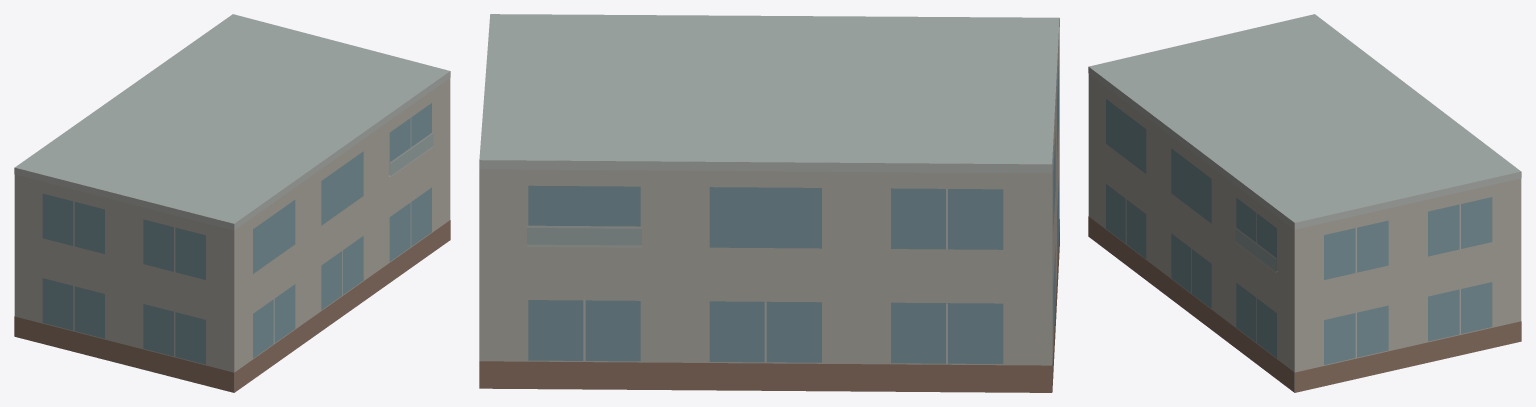
File: survey-upis-32604153.glb
3 views of the same model, side by side, from view 1: azimuth 30°, elevation 25°; view 2: azimuth 150°, elevation 25°; view 3: azimuth 270°, elevation 25° (orthographic). The views are drawn at different scales.
Visible parts, largest first — view 1: survey-upis-32604153.tmp; view 2: survey-upis-32604153.tmp; view 3: survey-upis-32604153.tmp.
Boxes of the visible parts, <box> form: survey-upis-32604153.tmp: <box>14,14,450,392</box>; survey-upis-32604153.tmp: <box>479,14,1059,392</box>; survey-upis-32604153.tmp: <box>1088,14,1521,392</box>.
Bounding box in the file's own units: 16.09 × 6.1 × 14.09.
